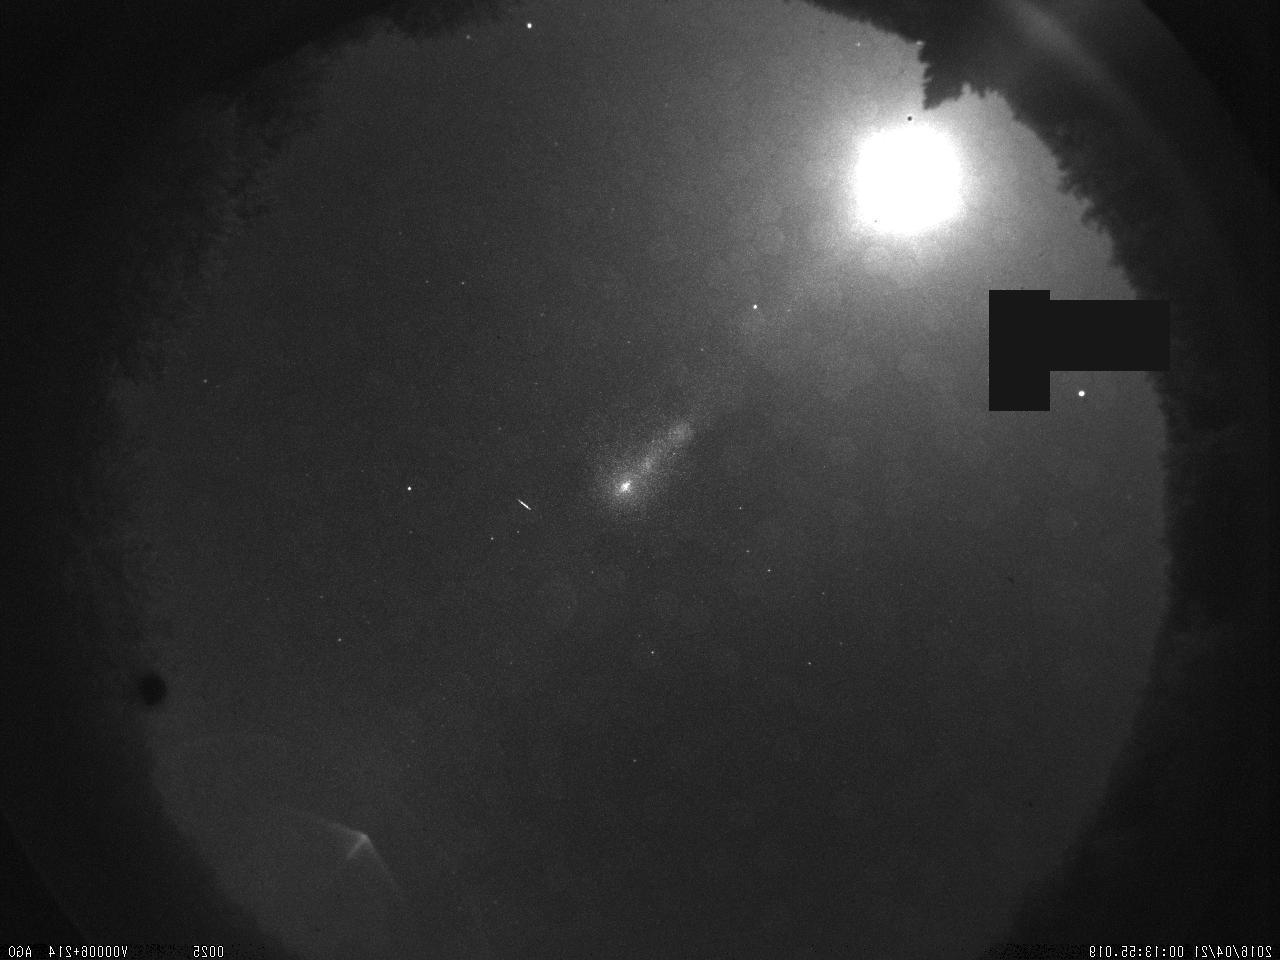meteor: (509, 495, 537, 512)
